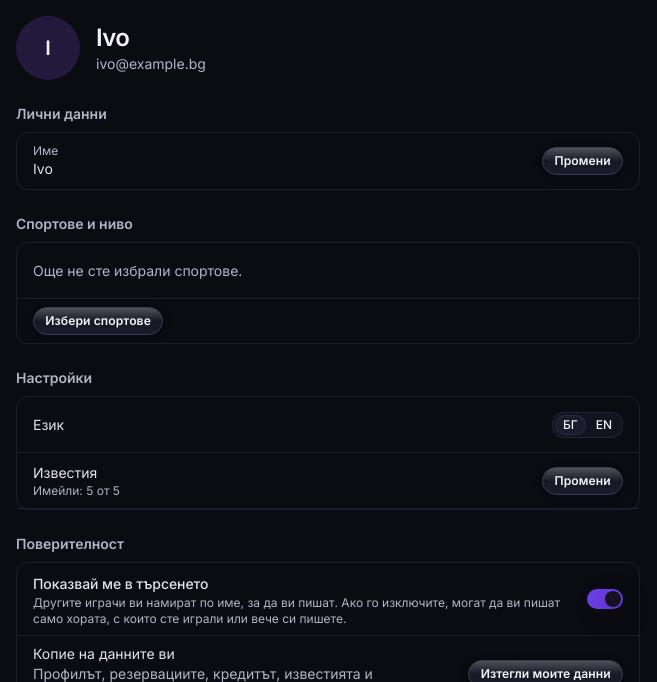
Scenario: Профил — the language is the user’s › a refused save leaves the language, the cookie and the token alone, and says so
The image size is (657, 682).
Click the radio button named "English".
click(604, 425)  # box top-left (588, 415), bottom-right (620, 435)
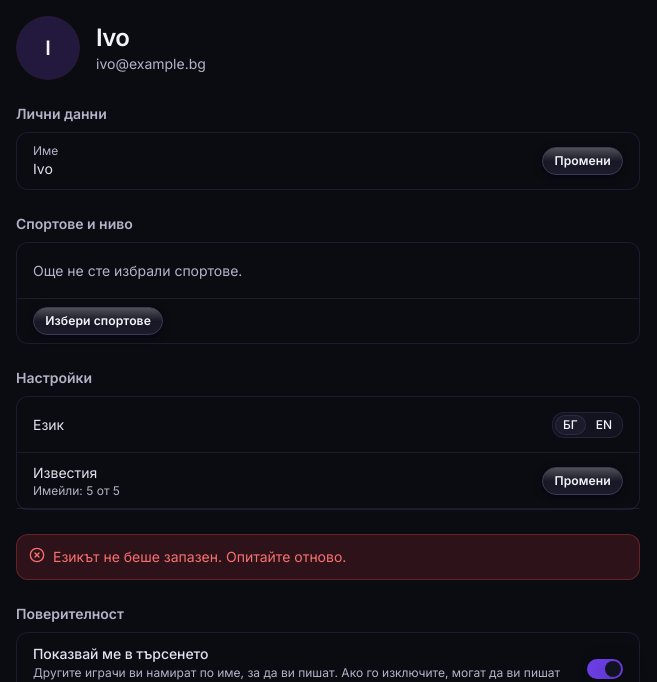
Result: the message with test id "profile-language-failed" reads "Езикът не беше запазен. Опитайте отново." at top-left (53, 548), bottom-right (346, 565)
